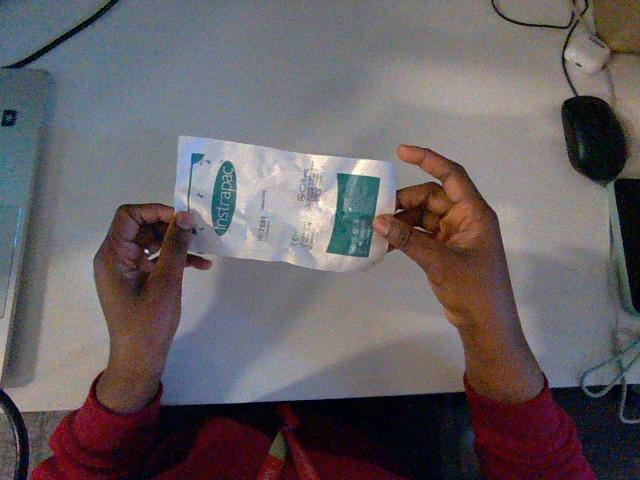gallipot: (175, 136, 395, 271)
